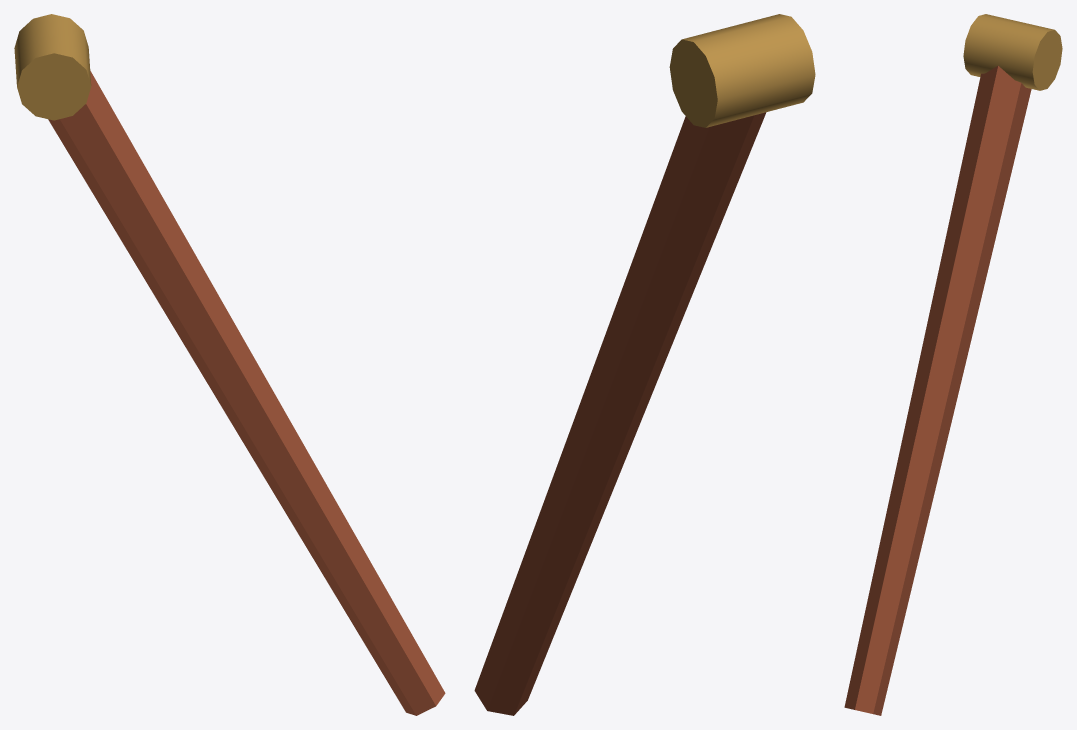
The model's file is rm2_leg_fl_tibia.obj.
3 renders of one model, left to right at view 1: azimuth 30°, elevation 25°; view 2: azimuth 150°, elevation 25°; view 3: azimuth 270°, elevation 25°, orthographic. The views are drawn at different scales.
Parts seen in each view (by area): view 1: rm2_leg_fl_tibia; view 2: rm2_leg_fl_tibia; view 3: rm2_leg_fl_tibia.
Boxes of the visible parts, x1=… form: rm2_leg_fl_tibia: x1=14, y1=14, x2=445, y2=715; rm2_leg_fl_tibia: x1=474, y1=14, x2=815, y2=715; rm2_leg_fl_tibia: x1=844, y1=14, x2=1062, y2=715.
Bounding box in the file's own units: 0.4314 × 0.8112 × 0.2772.
